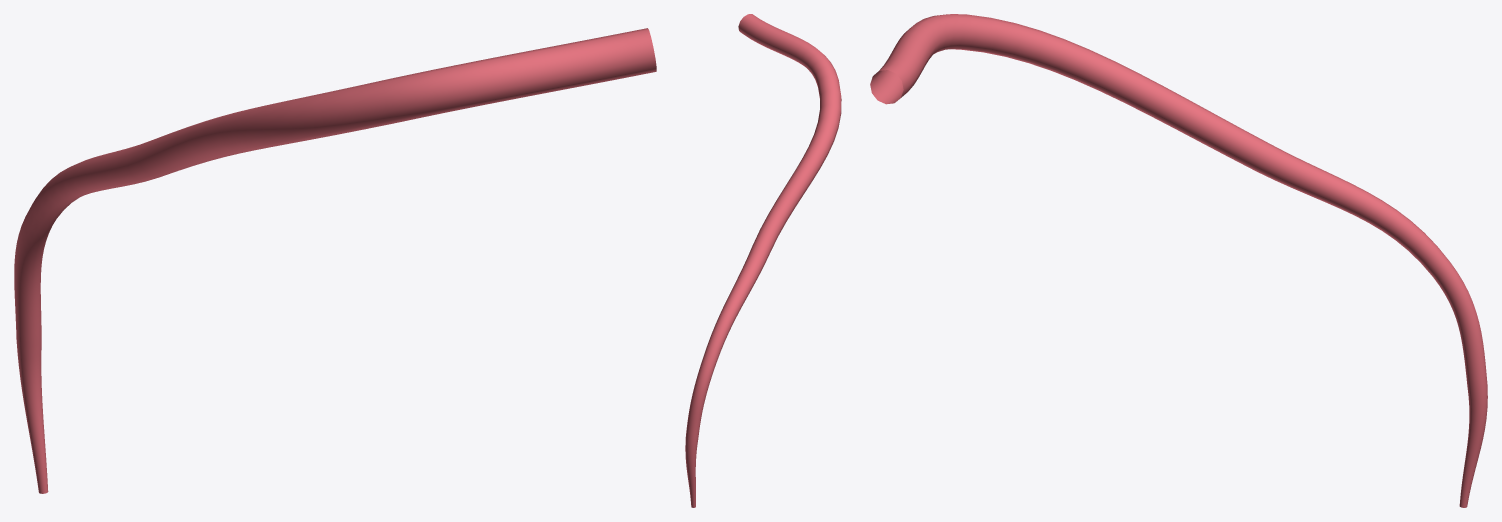
3 renders of one model, left to right at view 1: azimuth 30°, elevation 25°; view 2: azimuth 150°, elevation 25°; view 3: azimuth 270°, elevation 25°, orthographic. The views are drawn at different scales.
Parts seen in each view (by area): view 1: ZA_ae13c190de1bc4c3; view 2: ZA_ae13c190de1bc4c3; view 3: ZA_ae13c190de1bc4c3.
Boxes of the visible parts, left/top/right/bottom form: ZA_ae13c190de1bc4c3: left=14, top=28, right=656, bottom=493; ZA_ae13c190de1bc4c3: left=685, top=14, right=841, bottom=507; ZA_ae13c190de1bc4c3: left=870, top=14, right=1487, bottom=507.
Bounding box in the file's own units: 0.0211 × 0.0459 × 0.048.
